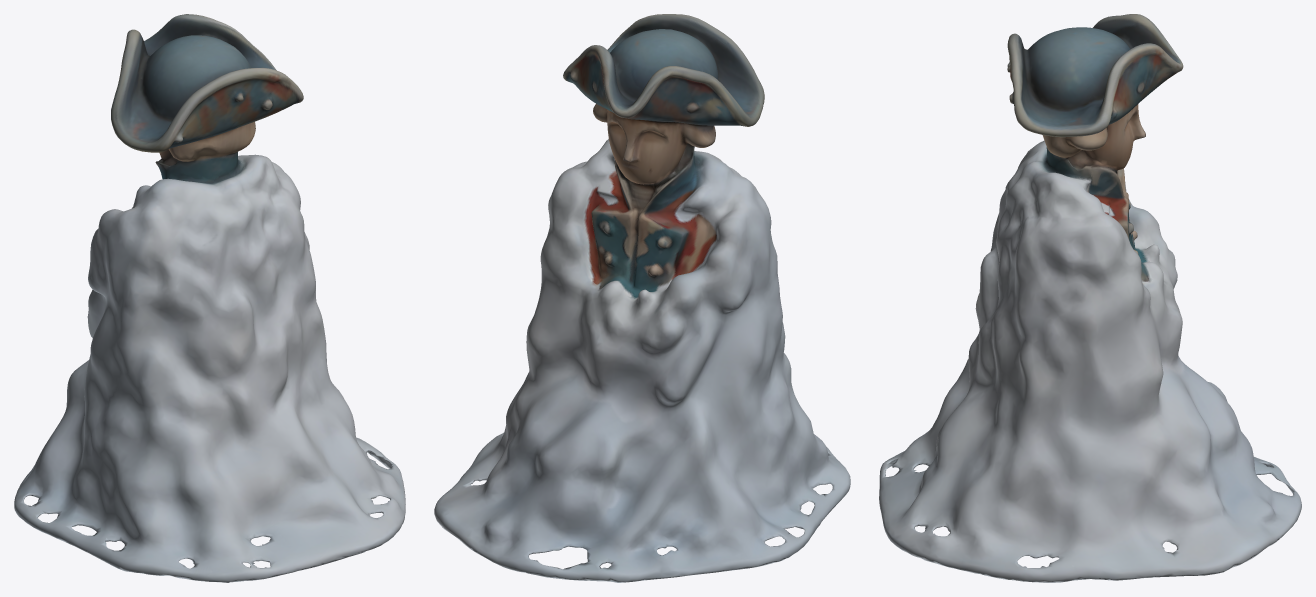
Rendered from Lost_Scout.glb.
The picture shows the model from 3 angles, left to right: view 1: azimuth 30°, elevation 25°; view 2: azimuth 150°, elevation 25°; view 3: azimuth 270°, elevation 25°; orthographic projection.
Parts seen in each view (by area): view 1: NapoleonStatue; view 2: NapoleonStatue; view 3: NapoleonStatue.
Boxes of the visible parts, x1=… form: NapoleonStatue: x1=14, y1=14, x2=405, y2=582; NapoleonStatue: x1=434, y1=14, x2=850, y2=582; NapoleonStatue: x1=879, y1=14, x2=1301, y2=582.
Bounding box in the file's own units: 0.5286 × 0.7 × 0.5781.
Materials: 1 (1 with a texture image).
